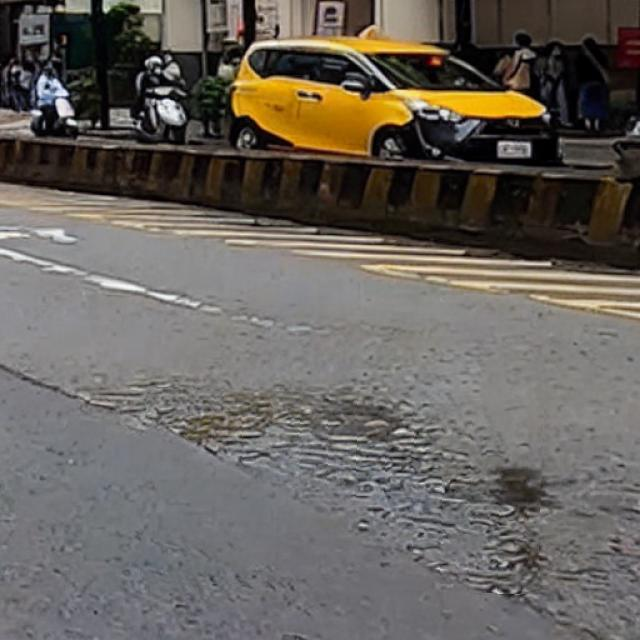puddle: (143, 391, 544, 592)
